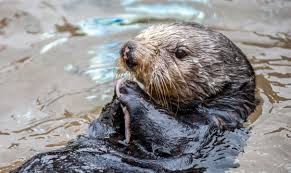otter: (74, 9, 253, 173)
